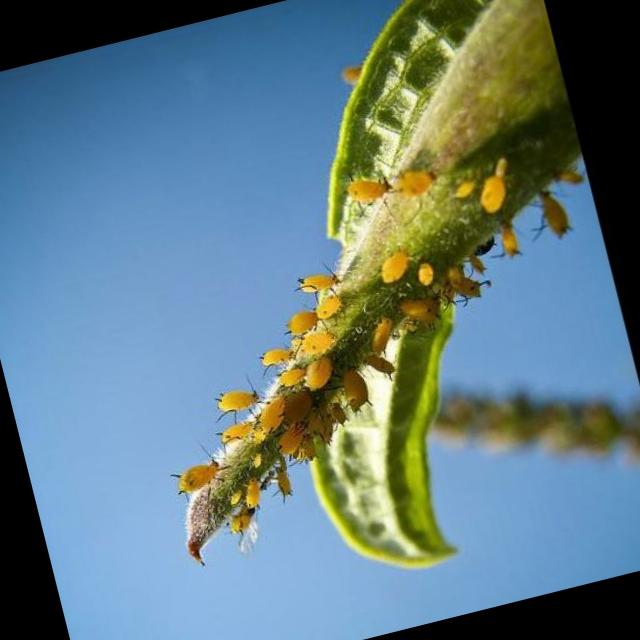aphid: (168, 448, 230, 504), (364, 240, 426, 292), (342, 170, 396, 210), (536, 186, 574, 240), (295, 353, 339, 398), (396, 290, 442, 330), (391, 163, 439, 201), (253, 394, 294, 436), (292, 267, 342, 300), (338, 364, 372, 412), (212, 384, 260, 418), (475, 173, 511, 215), (273, 420, 312, 458), (364, 314, 398, 354), (296, 327, 336, 359), (362, 348, 396, 380), (284, 308, 320, 338), (312, 293, 346, 322), (258, 345, 292, 370), (240, 477, 264, 511), (276, 366, 308, 389)
